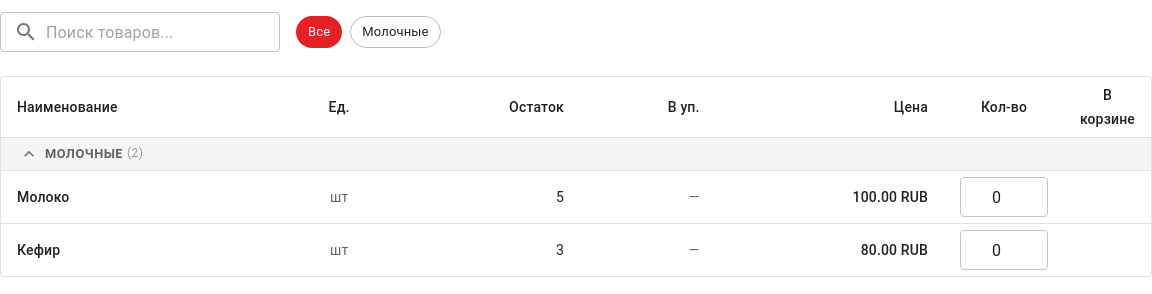
Test: ProductsPage › collapses category when header row is clicked
Expected: the text "Молоко" is shown, top-left (17, 189), bottom-right (69, 205)
// Click the category header row (second occurrence of "Молочные" — in table)
Click the text "Молочные" below "Наименование" at (84, 154), box top-left (45, 145), bottom-right (123, 163)
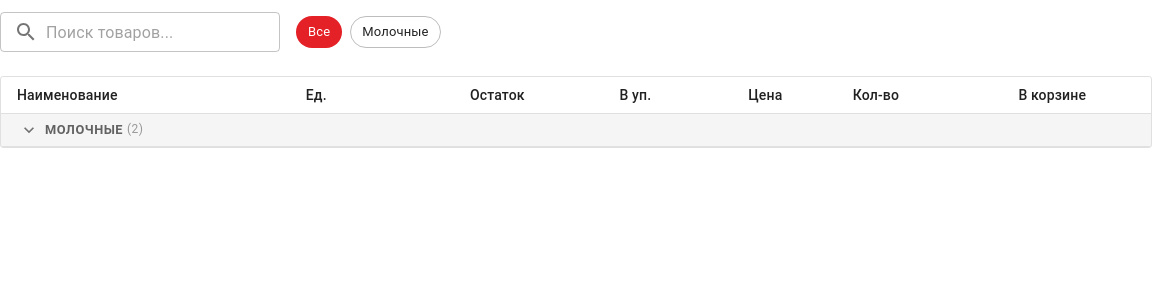
Expected: the text "Молоко" is gone
Expected: the text "Кефир" is gone
